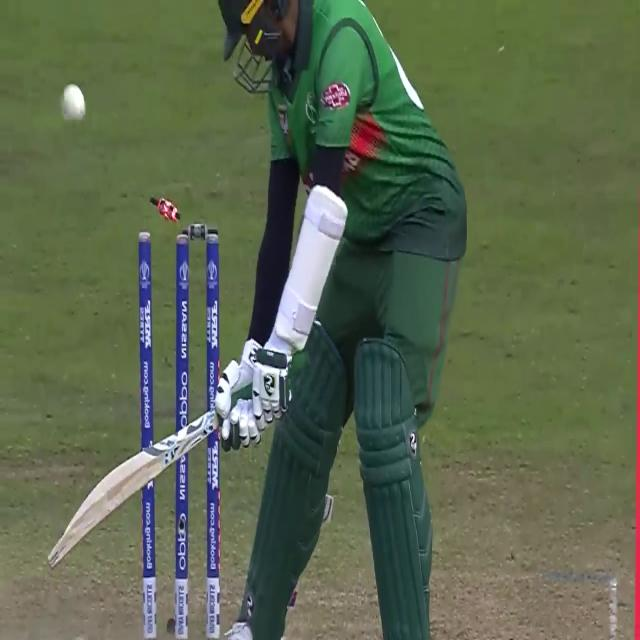ball: (57, 78, 91, 134)
